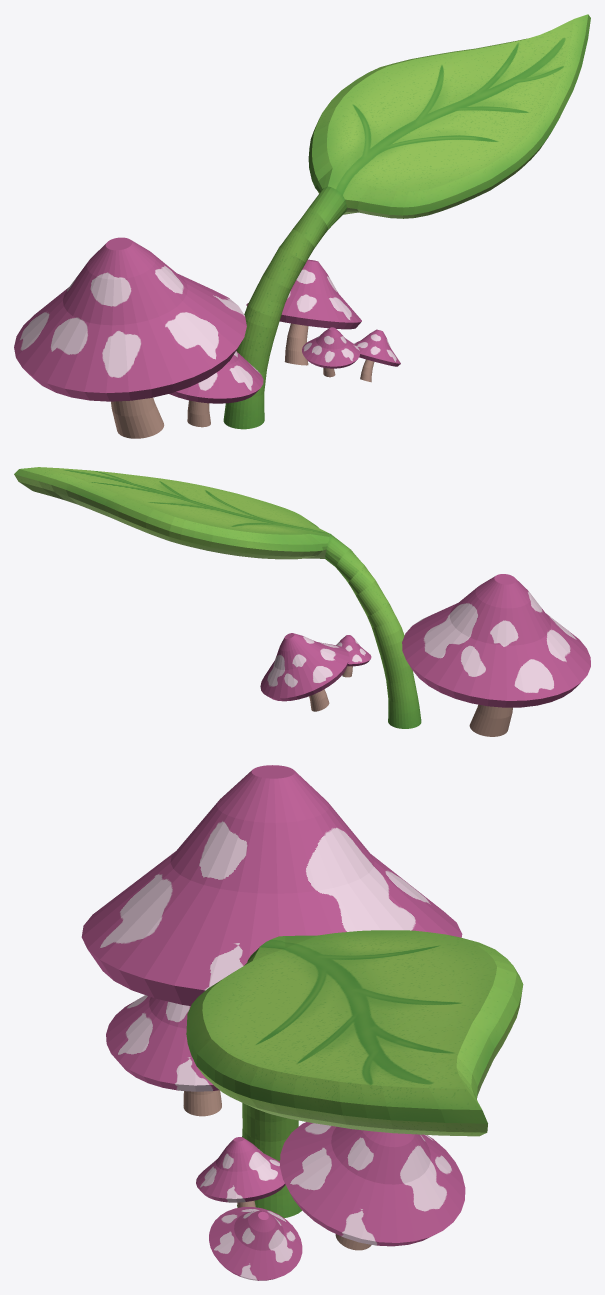
The model's file is LeafMushroom.glb.
The picture shows the model from 3 angles, top to bottom: view 1: azimuth 30°, elevation 25°; view 2: azimuth 150°, elevation 25°; view 3: azimuth 270°, elevation 25°; orthographic projection. The views are drawn at different scales.
Visible parts, largest first — view 1: LeafWithMushrooms, Mushroom, Mushroom.002, Mushroom.001, Mushroom.003, Mushroom.004; view 2: LeafWithMushrooms, Mushroom, Mushroom.002, Mushroom.003; view 3: LeafWithMushrooms, Mushroom, Mushroom.002, Mushroom.001, Mushroom.004, Mushroom.003.
Part boxes in pixels (bbox=[...]): LeafWithMushrooms: bbox=[223, 14, 590, 429]; Mushroom: bbox=[14, 237, 246, 438]; Mushroom.002: bbox=[246, 259, 361, 365]; Mushroom.001: bbox=[169, 351, 263, 427]; Mushroom.003: bbox=[302, 327, 360, 377]; Mushroom.004: bbox=[354, 329, 400, 382]; LeafWithMushrooms: bbox=[14, 467, 421, 728]; Mushroom: bbox=[402, 574, 590, 736]; Mushroom.002: bbox=[260, 633, 349, 711]; Mushroom.003: bbox=[336, 635, 371, 677]; LeafWithMushrooms: bbox=[186, 930, 523, 1218]; Mushroom: bbox=[81, 765, 462, 1005]; Mushroom.002: bbox=[280, 1122, 465, 1250]; Mushroom.001: bbox=[106, 995, 221, 1116]; Mushroom.004: bbox=[209, 1207, 302, 1280]; Mushroom.003: bbox=[196, 1137, 285, 1207].
Bounding box in the file's own units: 5.18 × 2.07 × 1.94.
Materials: 2 (2 with a texture image).
